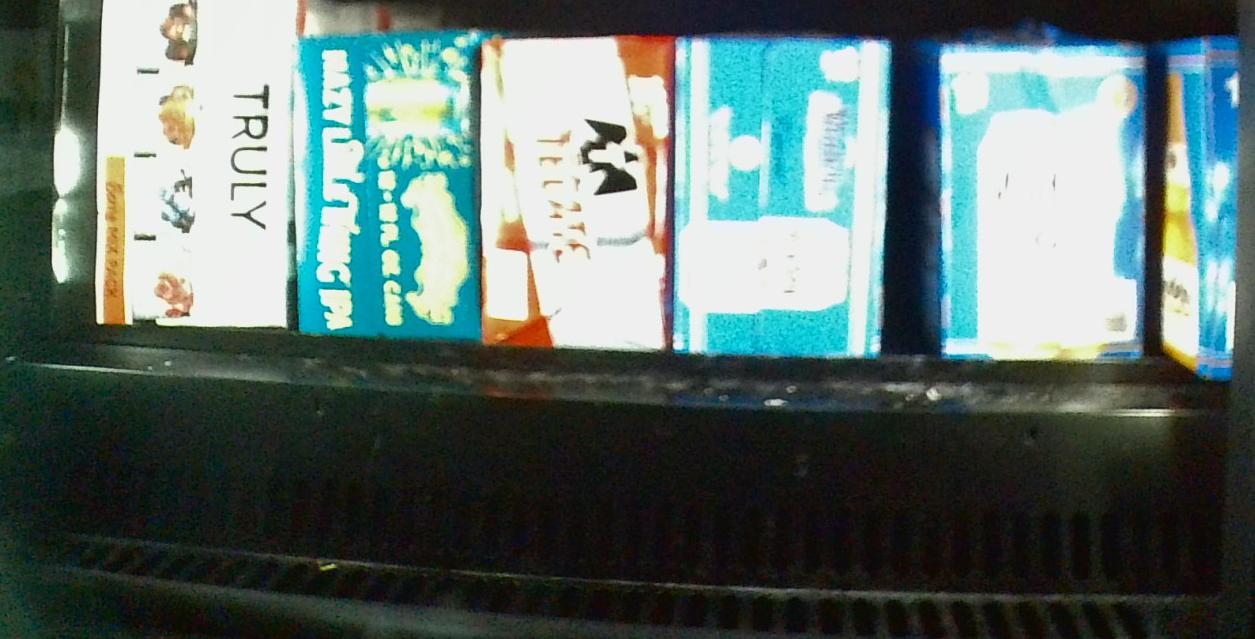bottle: (914, 35, 1144, 365), (677, 33, 892, 354), (92, 4, 291, 327), (480, 36, 667, 351), (297, 32, 477, 338), (1155, 36, 1227, 380)
